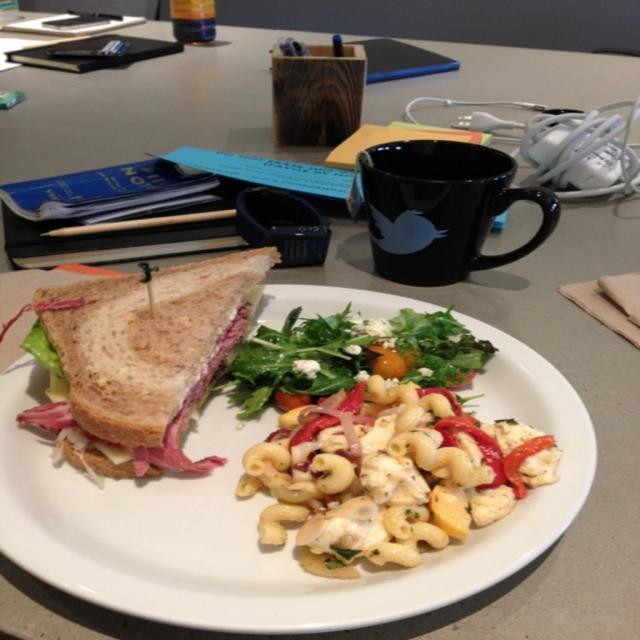Sandwich: (0, 245, 274, 481)
